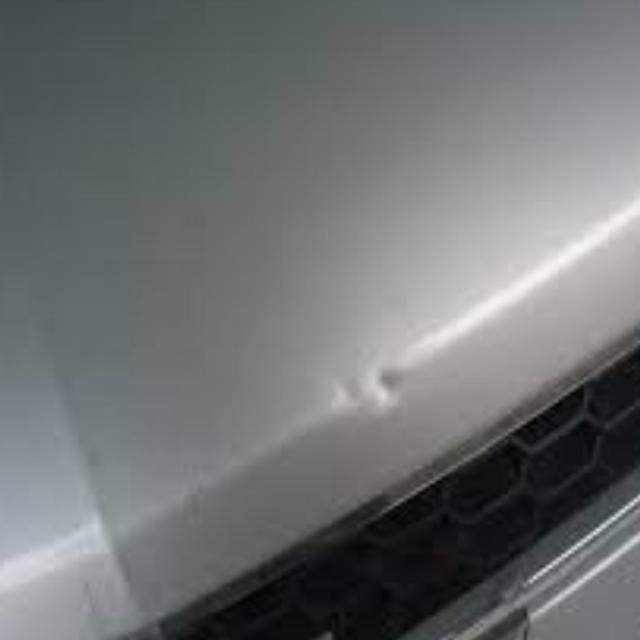dents: (374, 346, 410, 444), (323, 365, 367, 420)
